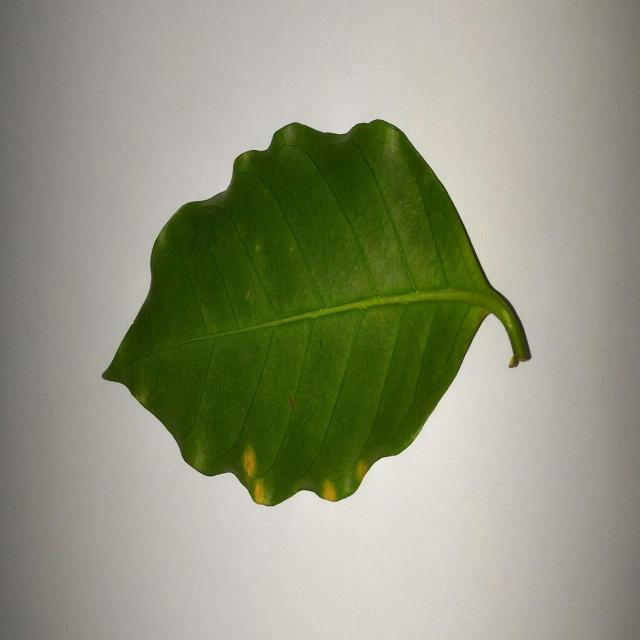rust: (132, 368, 159, 416), (185, 432, 212, 476), (381, 122, 407, 160), (248, 478, 277, 506), (280, 122, 302, 154), (153, 221, 173, 255), (338, 472, 361, 499), (319, 476, 339, 502), (235, 150, 256, 173), (242, 446, 257, 478), (356, 456, 371, 482), (288, 238, 297, 251), (255, 240, 261, 250)
